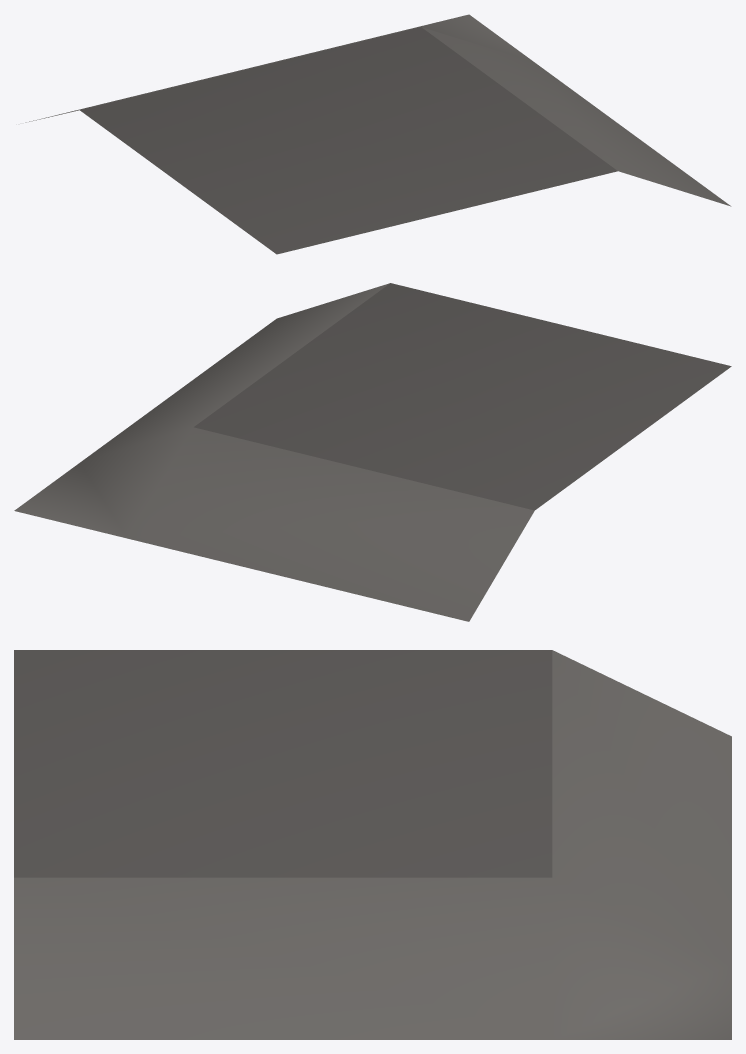
File: AI_Env_Sewer_Roof_Corner_Open.fbx
The picture shows the model from 3 angles, top to bottom: view 1: azimuth 30°, elevation 25°; view 2: azimuth 150°, elevation 25°; view 3: azimuth 270°, elevation 25°; orthographic projection. The views are drawn at different scales.
Visible parts, largest first — view 1: AI_Env_Sewer_Roof_Corner_Open; view 2: AI_Env_Sewer_Roof_Corner_Open; view 3: AI_Env_Sewer_Roof_Corner_Open.
Boxes of the visible parts, x1,y1,x2,y2 form: AI_Env_Sewer_Roof_Corner_Open: (25,14,731,254); AI_Env_Sewer_Roof_Corner_Open: (14,283,731,621); AI_Env_Sewer_Roof_Corner_Open: (14,650,731,1039).
Bounding box in the file's own units: 5 × 0.6645 × 5.
